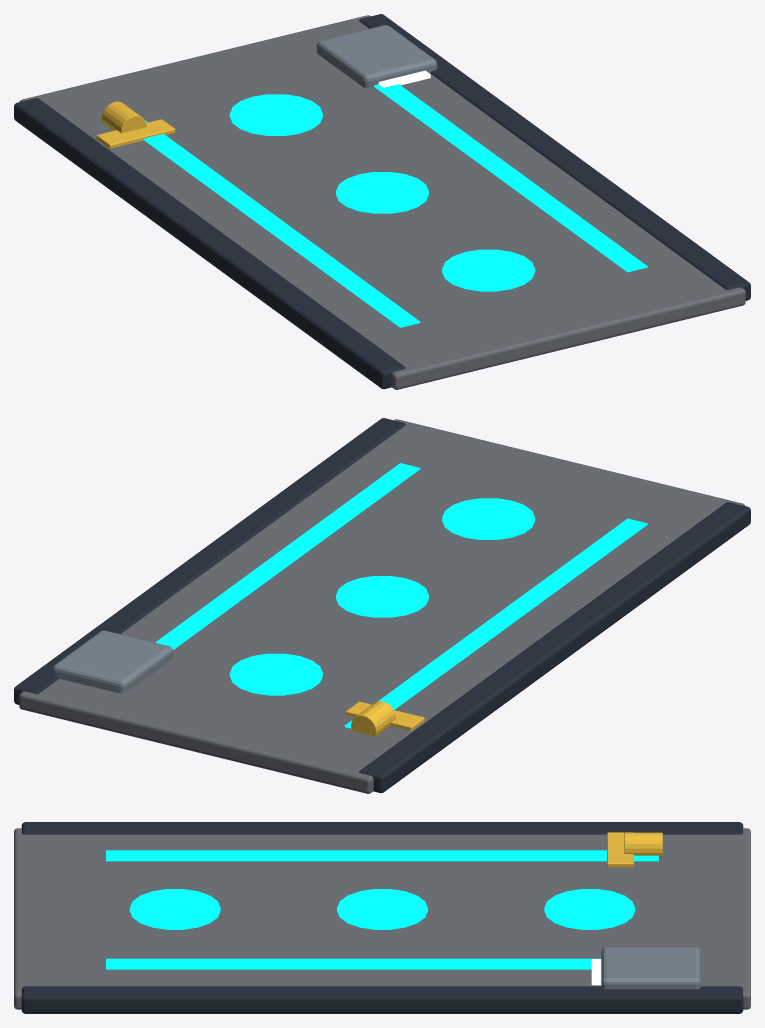
File: charging_bay_pad_a_v01.glb
3 views of the same model, one above another, from view 1: azimuth 30°, elevation 25°; view 2: azimuth 150°, elevation 25°; view 3: azimuth 270°, elevation 25° (orthographic). The views are drawn at different scales.
Visible parts, largest first — view 1: component__ground_pad__ground_pad, component__protective_edging__protective_edging.001, component__protective_edging__protective_edging, component__alignment_markings__alignment_marking, component__alignment_markings__alignment_marking.001, component__power_module__power_module, component__connector_or_induction_array__induction_array.001, component__connector_or_induction_array__induction_array, component__connector_or_induction_array__induction_array.002, component__safety_and_warning_markings__warning_panel, component__safety_and_warning_markings__emergency_stop; view 2: component__ground_pad__ground_pad, component__protective_edging__protective_edging.001, component__protective_edging__protective_edging, component__alignment_markings__alignment_marking, component__alignment_markings__alignment_marking.001, component__power_module__power_module, component__connector_or_induction_array__induction_array, component__connector_or_induction_array__induction_array.001, component__connector_or_induction_array__induction_array.002, component__safety_and_warning_markings__emergency_stop, component__safety_and_warning_markings__warning_panel; view 3: component__ground_pad__ground_pad, component__protective_edging__protective_edging, component__protective_edging__protective_edging.001, component__alignment_markings__alignment_marking, component__alignment_markings__alignment_marking.001, component__power_module__power_module, component__connector_or_induction_array__induction_array.001, component__connector_or_induction_array__induction_array.002, component__connector_or_induction_array__induction_array, component__safety_and_warning_markings__emergency_stop, component__safety_and_warning_markings__warning_panel.
Boxes of the visible parts, <box> form: component__ground_pad__ground_pad: <box>19,15,745,389</box>; component__protective_edging__protective_edging.001: <box>14,98,405,389</box>; component__protective_edging__protective_edging: <box>359,14,750,300</box>; component__alignment_markings__alignment_marking: <box>143,120,420,327</box>; component__alignment_markings__alignment_marking.001: <box>374,84,647,272</box>; component__power_module__power_module: <box>316,25,437,88</box>; component__connector_or_induction_array__induction_array.001: <box>442,249,535,291</box>; component__connector_or_induction_array__induction_array: <box>229,94,322,135</box>; component__connector_or_induction_array__induction_array.002: <box>336,172,428,213</box>; component__safety_and_warning_markings__warning_panel: <box>96,119,175,148</box>; component__safety_and_warning_markings__emergency_stop: <box>102,101,146,133</box>; component__ground_pad__ground_pad: <box>19,419,745,793</box>; component__protective_edging__protective_edging.001: <box>359,502,750,793</box>; component__protective_edging__protective_edging: <box>14,418,405,704</box>; component__alignment_markings__alignment_marking: <box>344,518,647,728</box>; component__alignment_markings__alignment_marking.001: <box>155,463,420,649</box>; component__power_module__power_module: <box>52,630,173,693</box>; component__connector_or_induction_array__induction_array: <box>229,653,322,695</box>; component__connector_or_induction_array__induction_array.001: <box>442,498,535,539</box>; component__connector_or_induction_array__induction_array.002: <box>336,576,428,617</box>; component__safety_and_warning_markings__emergency_stop: <box>351,701,395,736</box>; component__safety_and_warning_markings__warning_panel: <box>345,701,424,730</box>; component__ground_pad__ground_pad: <box>14,828,750,1009</box>; component__protective_edging__protective_edging: <box>21,986,743,1013</box>; component__protective_edging__protective_edging.001: <box>21,822,743,834</box>; component__alignment_markings__alignment_marking: <box>106,850,658,861</box>; component__alignment_markings__alignment_marking.001: <box>106,958,600,969</box>; component__power_module__power_module: <box>601,947,700,989</box>; component__connector_or_induction_array__induction_array.001: <box>129,889,220,929</box>; component__connector_or_induction_array__induction_array.002: <box>337,889,427,929</box>; component__connector_or_induction_array__induction_array: <box>544,889,635,929</box>; component__safety_and_warning_markings__emergency_stop: <box>624,832,662,857</box>; component__safety_and_warning_markings__warning_panel: <box>607,832,633,867</box>.
Bounding box in the file's own units: 2.83 × 0.252 × 4.99.
